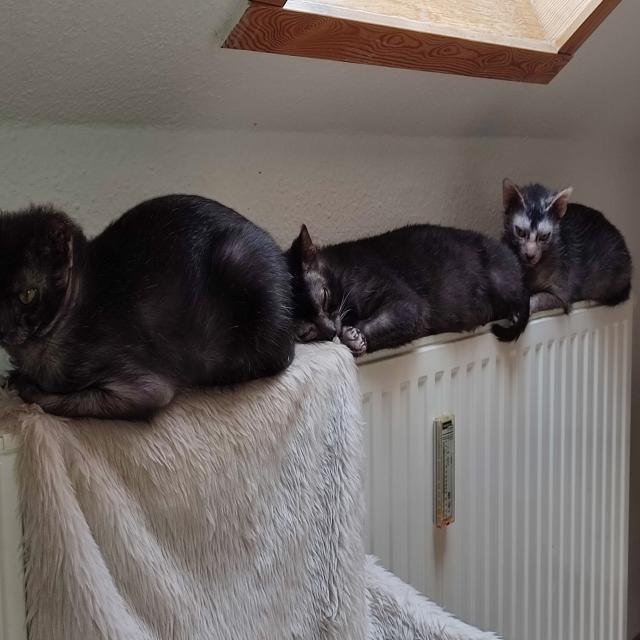Lykoi: (0, 189, 297, 426), (282, 220, 532, 358), (498, 172, 635, 312)
